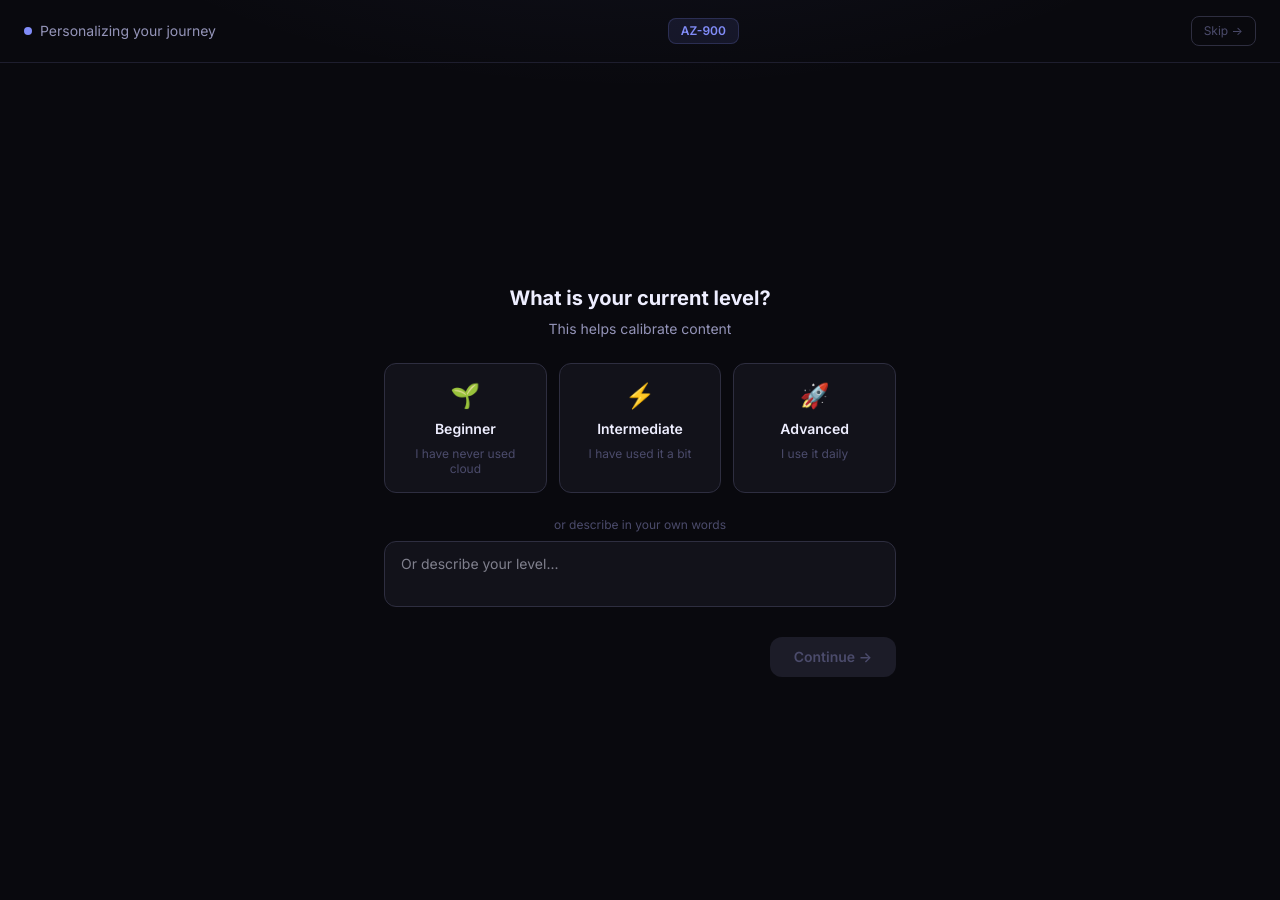
Test: OnboardingWizard — skip › 'Continue' button in warning modal dismisses it
The width and height of the screenshot is (1280, 900).
Click the button "Skip →".
click(1223, 31)  # box [1191,16,1256,46]
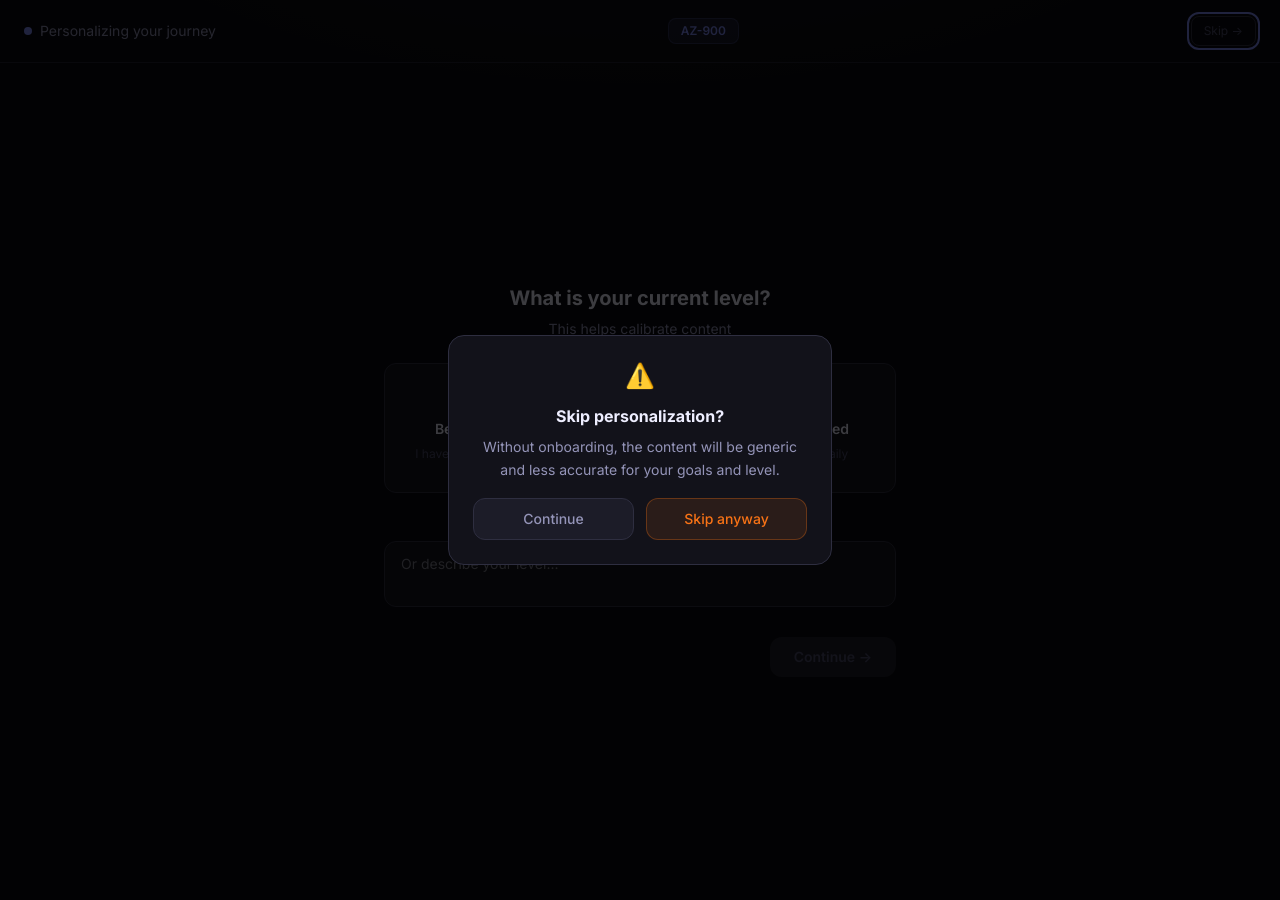
Now the button "Continue" is shown
Click the button "Continue".
click(554, 519)  # box [473,498,634,540]
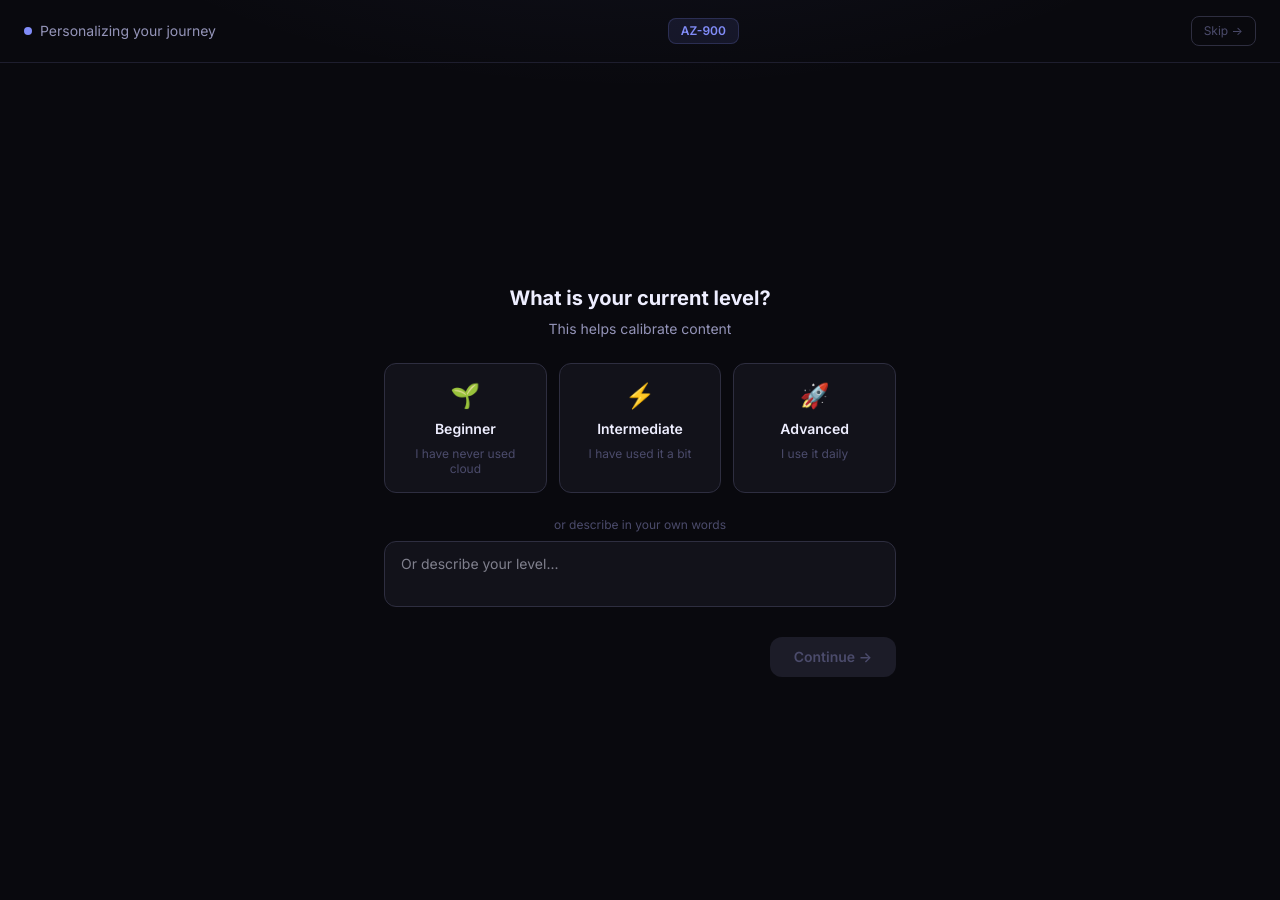
Now the heading "Skip personalization?" is gone
